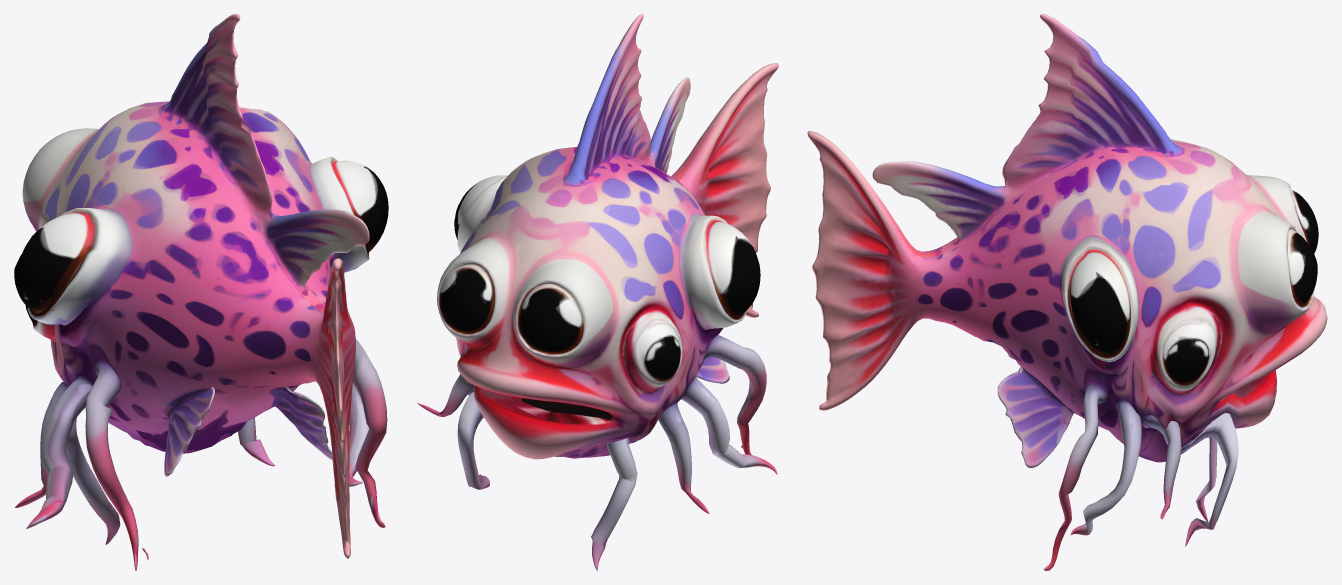
File: Cria.obj
The picture shows the model from 3 angles, left to right: view 1: azimuth 30°, elevation 25°; view 2: azimuth 150°, elevation 25°; view 3: azimuth 270°, elevation 25°; orthographic projection. The views are drawn at different scales.
Parts seen in each view (by area): view 1: Cria; view 2: Cria; view 3: Cria.
Part boxes in pixels (x1,y1,x2,y2): Cria: [14, 14, 388, 570]; Cria: [417, 14, 778, 570]; Cria: [807, 14, 1327, 570].
Bounding box in the file's own units: 0.6921 × 1 × 0.8955.
